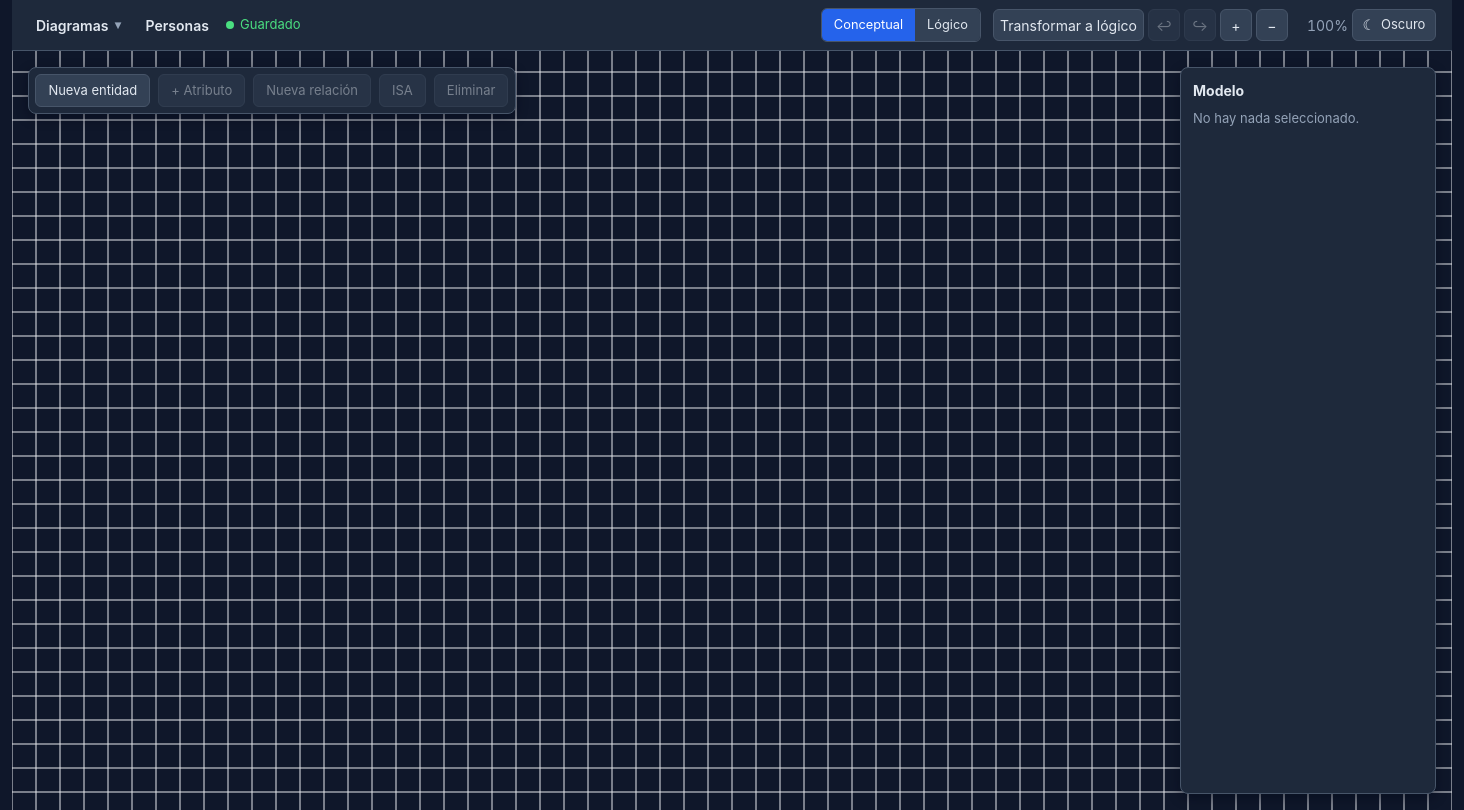
Test: EditorPage › crea una especialización ISA desde el supertipo seleccionado (T7-04)
Step 1. Click the button "Nueva entidad" → (93, 91), box [35,74,150,107]
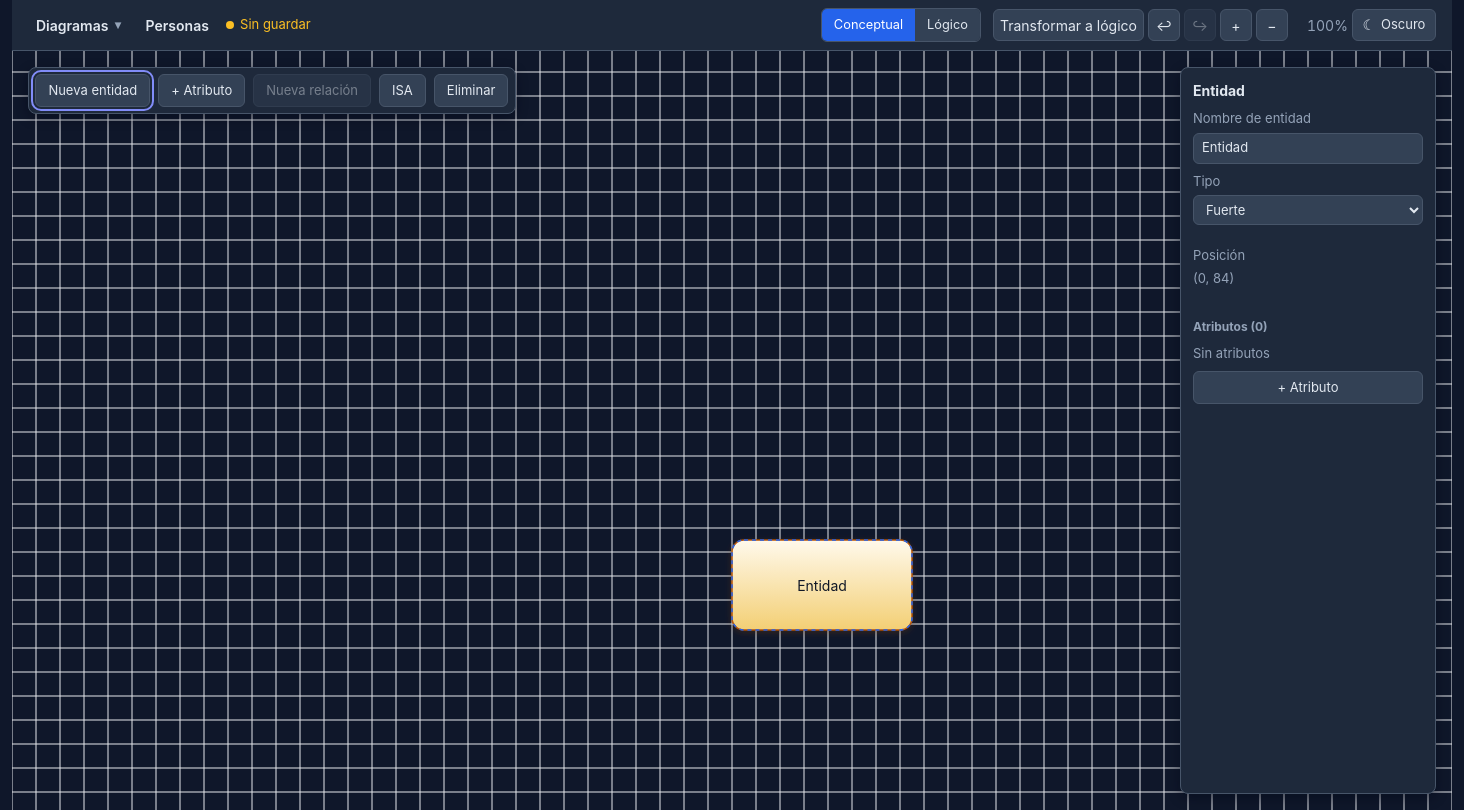
Expected: the button named "Nueva especialización" is enabled
Step 2. Click the button named "Nueva especialización" → (402, 91), box [379,74,426,107]
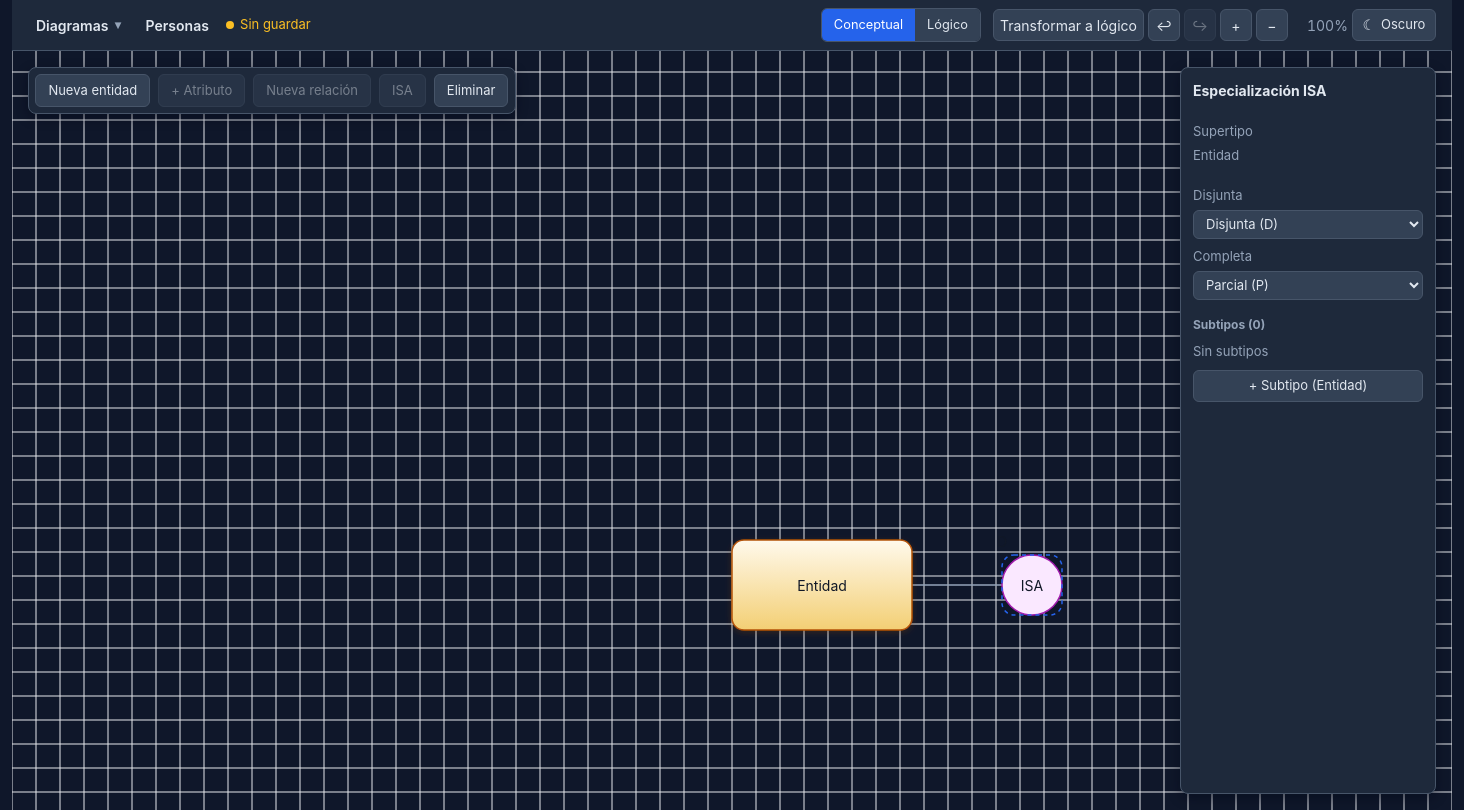
Expected: the text with test id "specialization-supertype" reads "Entidad", [1193,146,1239,162]
Expected: the element named "Inspector" shows "Supertipo", [1193,123,1253,139]
